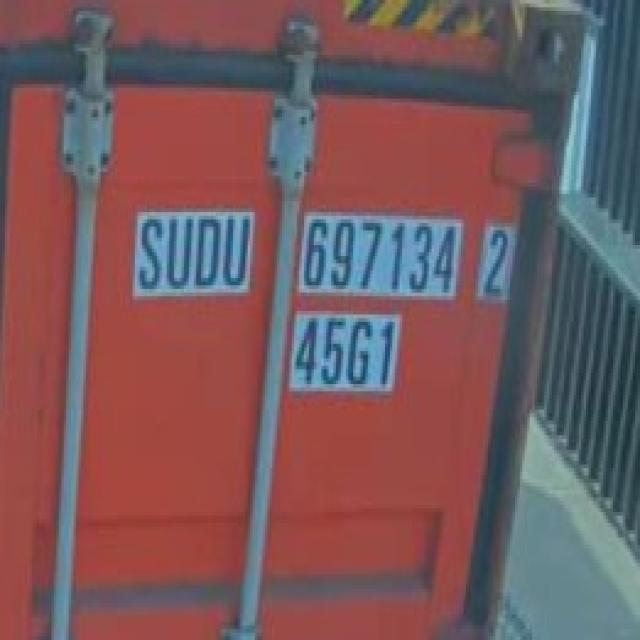dv: (480, 223, 515, 304)
owner: (132, 206, 252, 300)
serial: (297, 205, 459, 302)
size: (291, 312, 399, 398)
